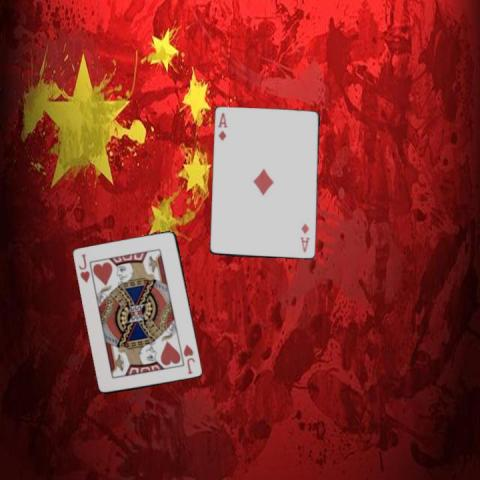Ad: (215, 110, 229, 142), (298, 221, 311, 254)
Jh: (180, 342, 196, 375), (76, 251, 91, 284)
